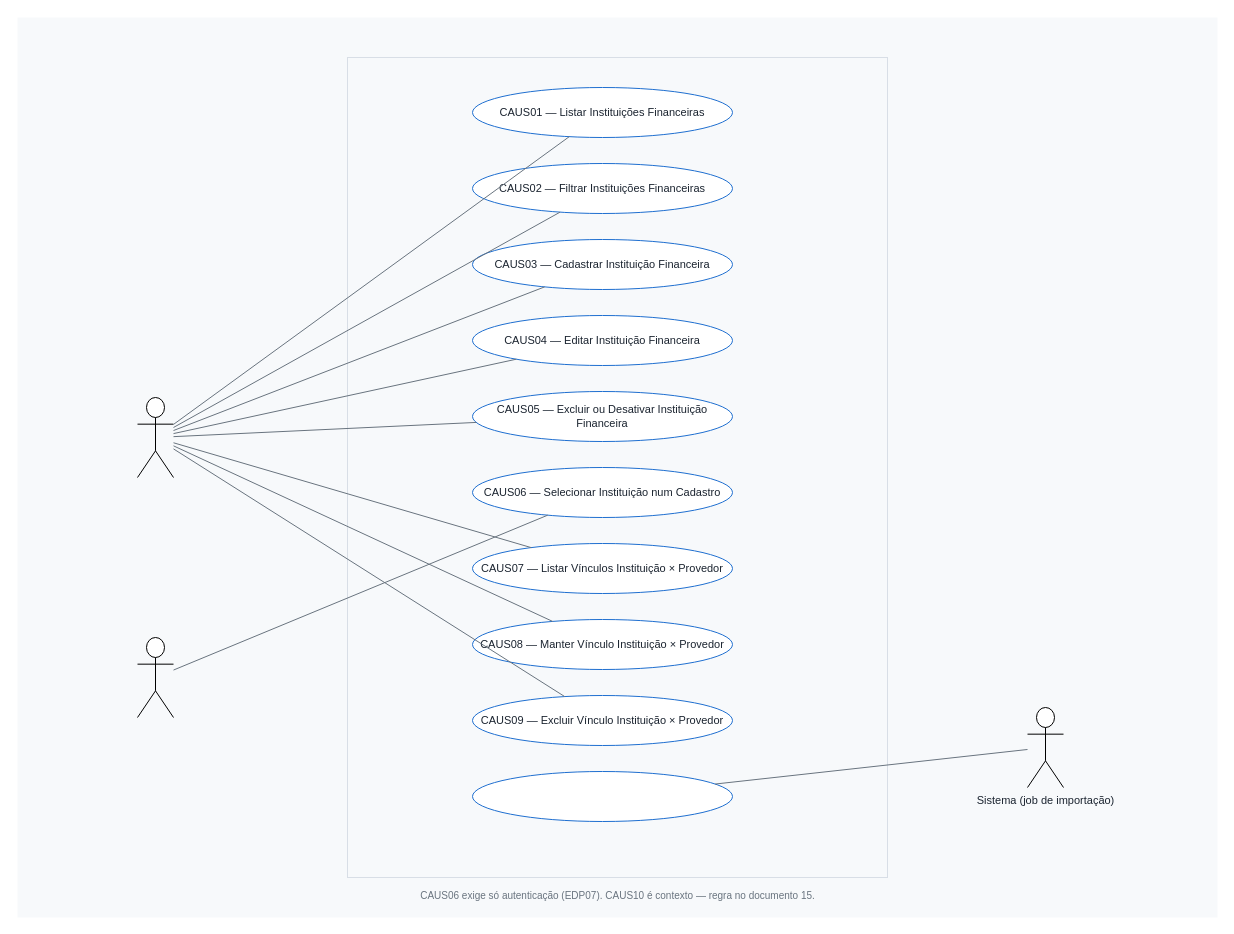
Some shapes in this 1234 by 934 pixel diagram are drawn without their labels. The shapes that lost their labels are listed below. From the top down, each one's box as (x1, y1, x2, y2) in pixels, then its label:
(136, 396, 174, 478): ADMIN (PERF01)
(346, 56, 888, 878): Manter Instituição Financeira
(136, 636, 174, 718): Usuário autenticado (PERF01 / PERF02)
(472, 770, 732, 822): CAUS10 — Resolver Instituição de Conta Importada
